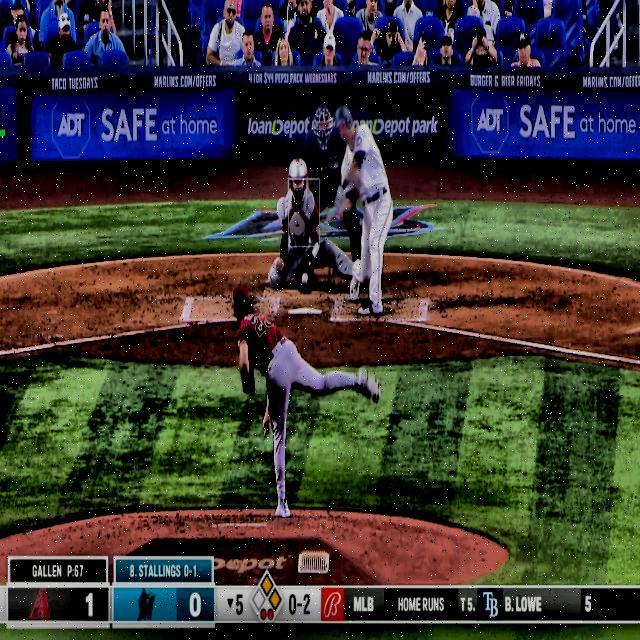baseball: (300, 271, 309, 288)
